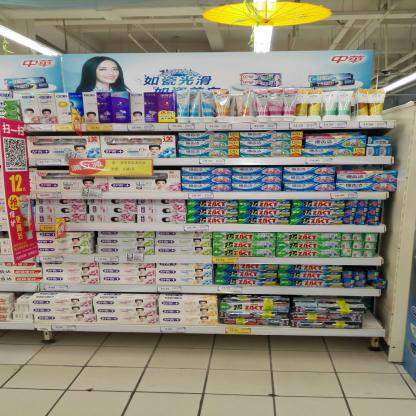Void: (364, 298, 385, 329), (344, 266, 381, 272), (369, 130, 389, 136), (364, 298, 366, 298)
